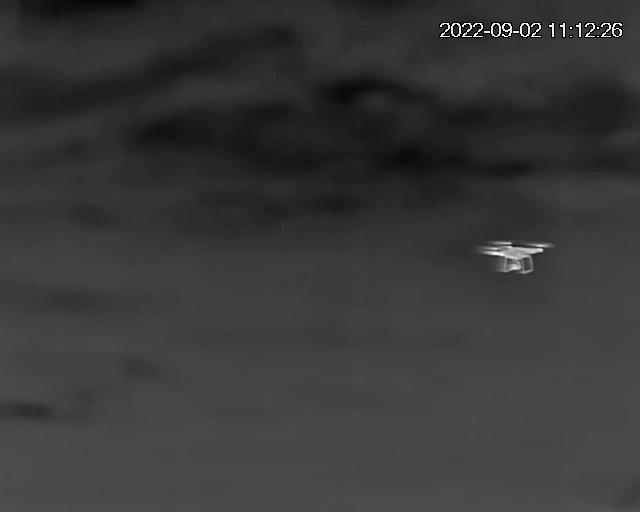DJI-Phantom: (481, 237, 555, 275)
